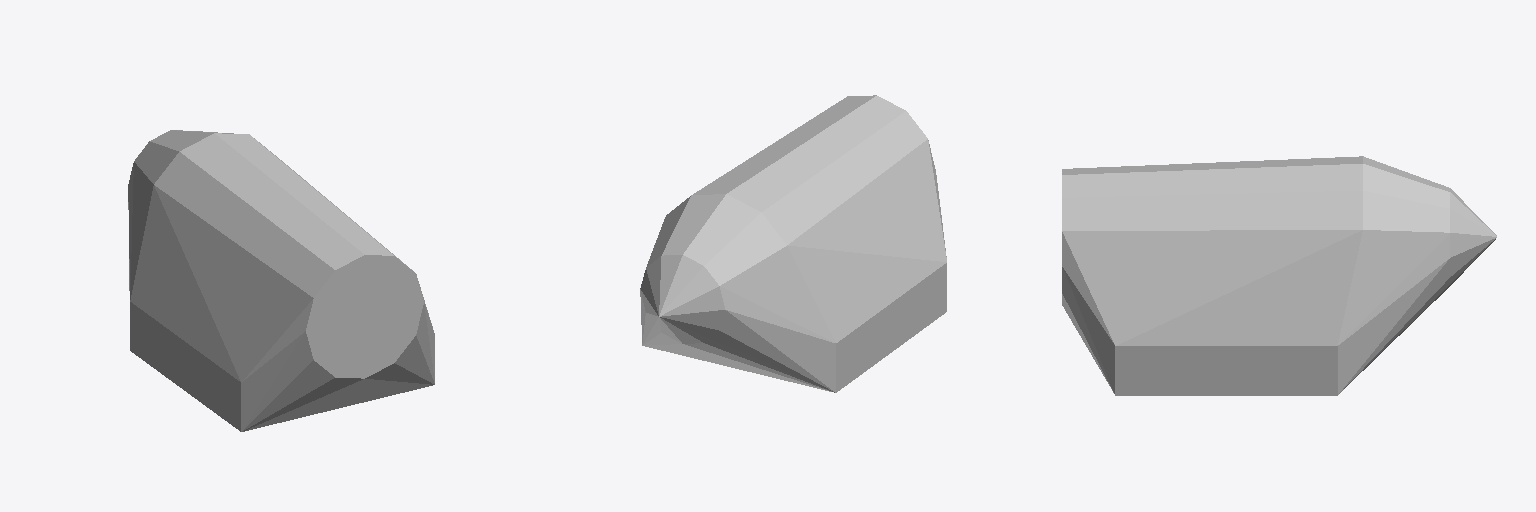
The model's file is extruderHead_original.obj.
The picture shows the model from 3 angles: view 1: azimuth 30°, elevation 25°; view 2: azimuth 150°, elevation 25°; view 3: azimuth 270°, elevation 25°; orthographic projection.
Size of the model in its own units: 40.99 by 37.32 by 79.8.